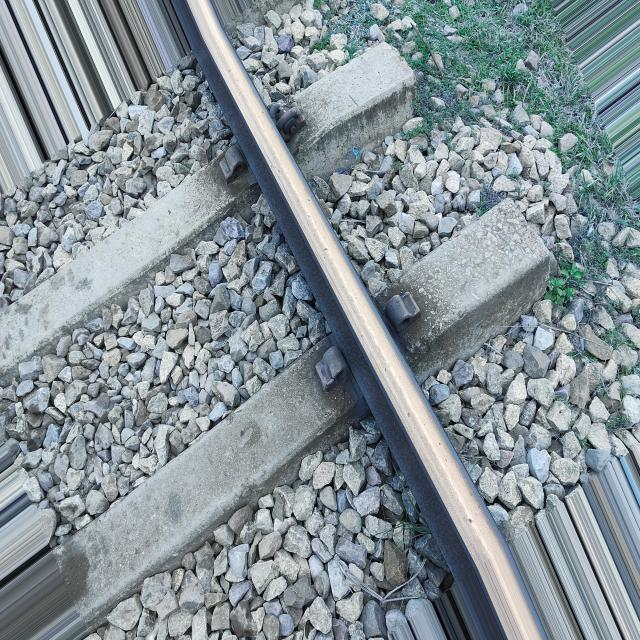Good Fasteners: (262, 88, 328, 160)
Missing Fastener: (372, 256, 468, 393), (298, 321, 384, 449), (204, 125, 271, 225)
